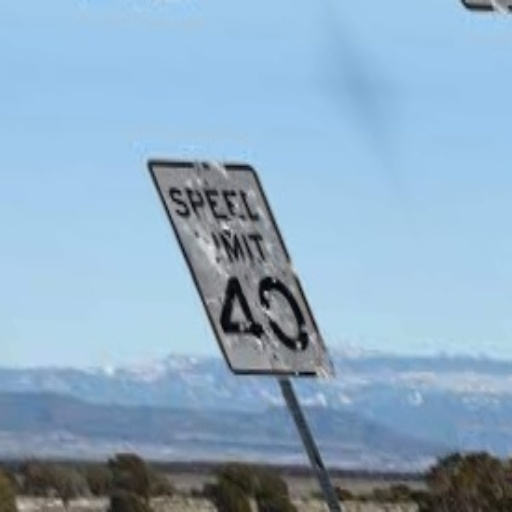Speed limit: (130, 140, 367, 389)
